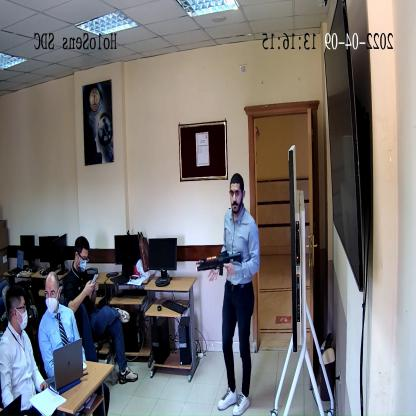handgun: (198, 248, 242, 278)
